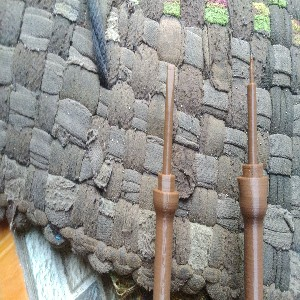obeng: (152, 64, 178, 300)
solder: (236, 50, 270, 300)
